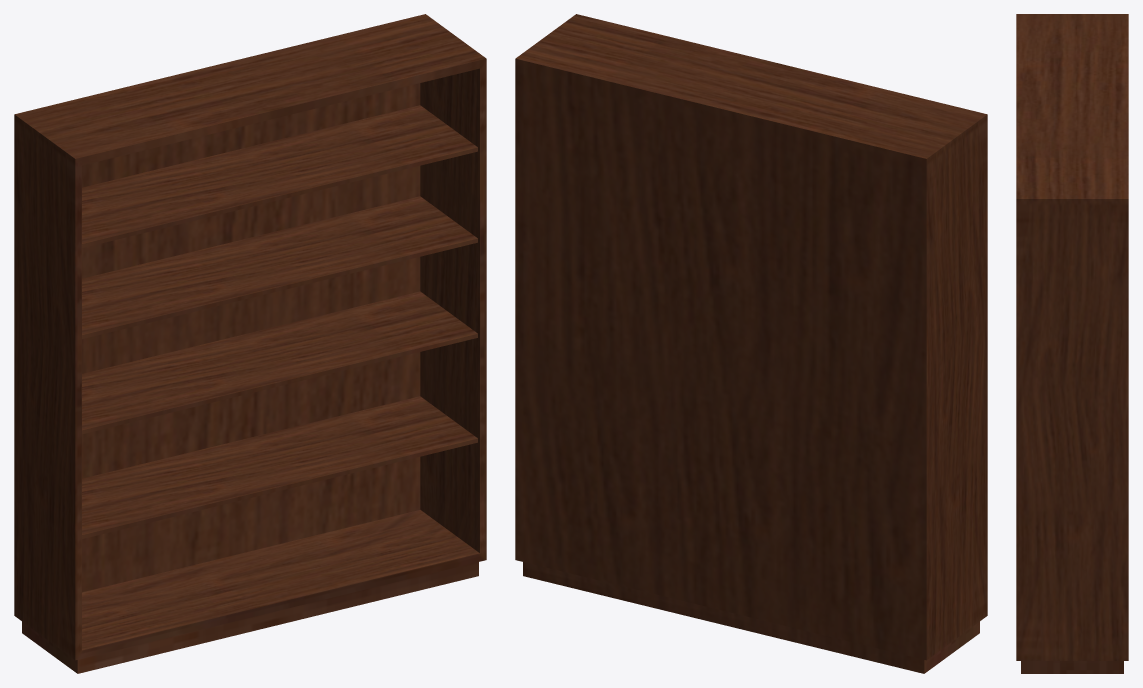
File: BookcaseL.fbx
3 renders of one model, left to right at view 1: azimuth 30°, elevation 25°; view 2: azimuth 150°, elevation 25°; view 3: azimuth 270°, elevation 25°, orthographic. The views are drawn at different scales.
Parts seen in each view (by area): view 1: BookcaseL; view 2: BookcaseL; view 3: BookcaseL.
Boxes of the visible parts, <box> form: BookcaseL: <box>14,14,486,673</box>; BookcaseL: <box>515,14,987,673</box>; BookcaseL: <box>1016,14,1128,673</box>.
Size of the model in its own units: 3.11 by 3.74 by 0.7986.
